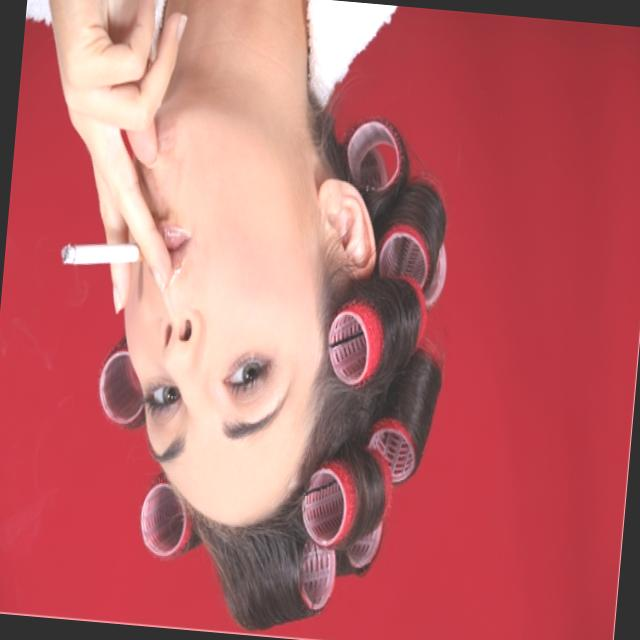smoke: (57, 236, 157, 276)
